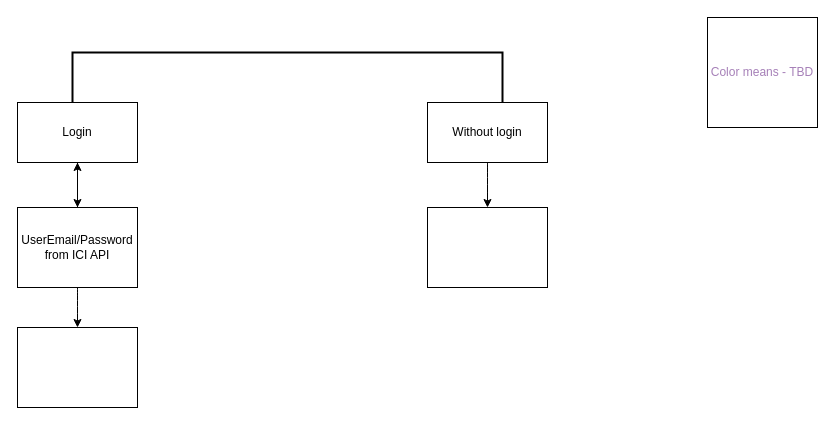
The diagram is 835 pixels wide and 425 high, and some of its shapes have lost their labels. The shapes that lost their labels are listed below. From the top down, each one's centre as x and y in pixels, then its label:
pixel 487 247: Main Page - Chat Main Page - Meitu api
pixel 77 367: Main Page - Chat with user records Main Page - Meitu api
